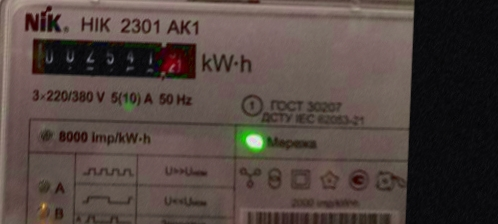0: (42, 44, 56, 66), (64, 43, 76, 65)
1: (144, 44, 156, 68)
2: (83, 43, 98, 65)
4: (125, 44, 136, 65)
5: (103, 44, 117, 67)
6: (166, 61, 178, 74)
screen: (19, 27, 210, 89)
